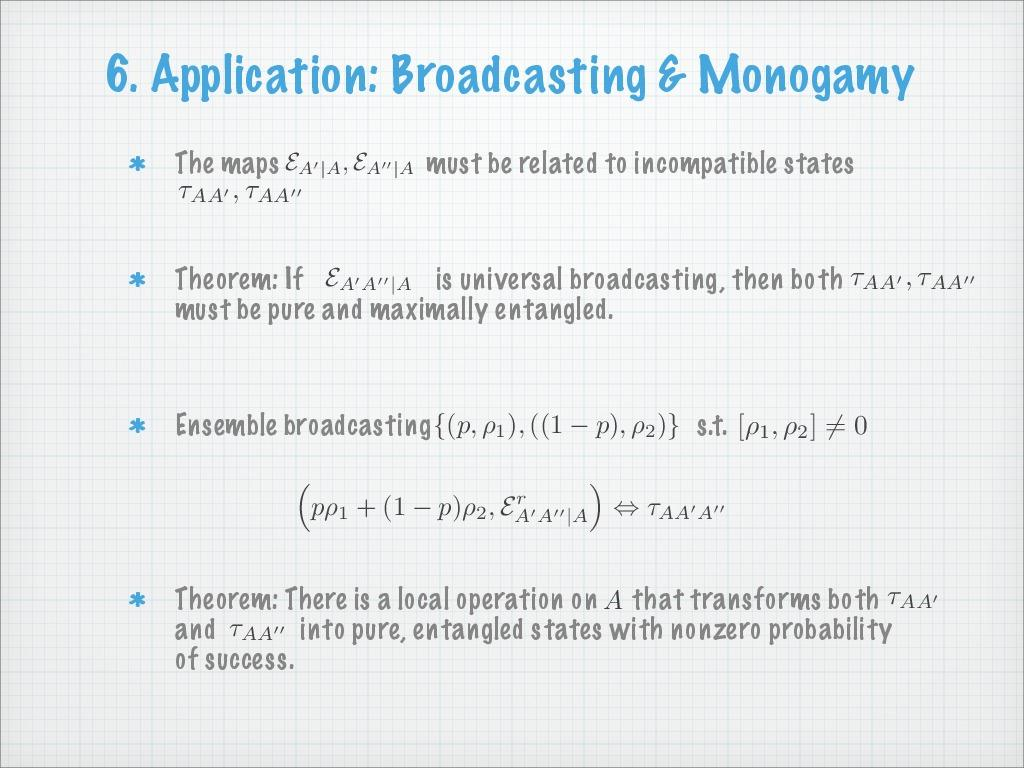paragraph: (124, 144, 991, 705)
title: (145, 28, 927, 122)
